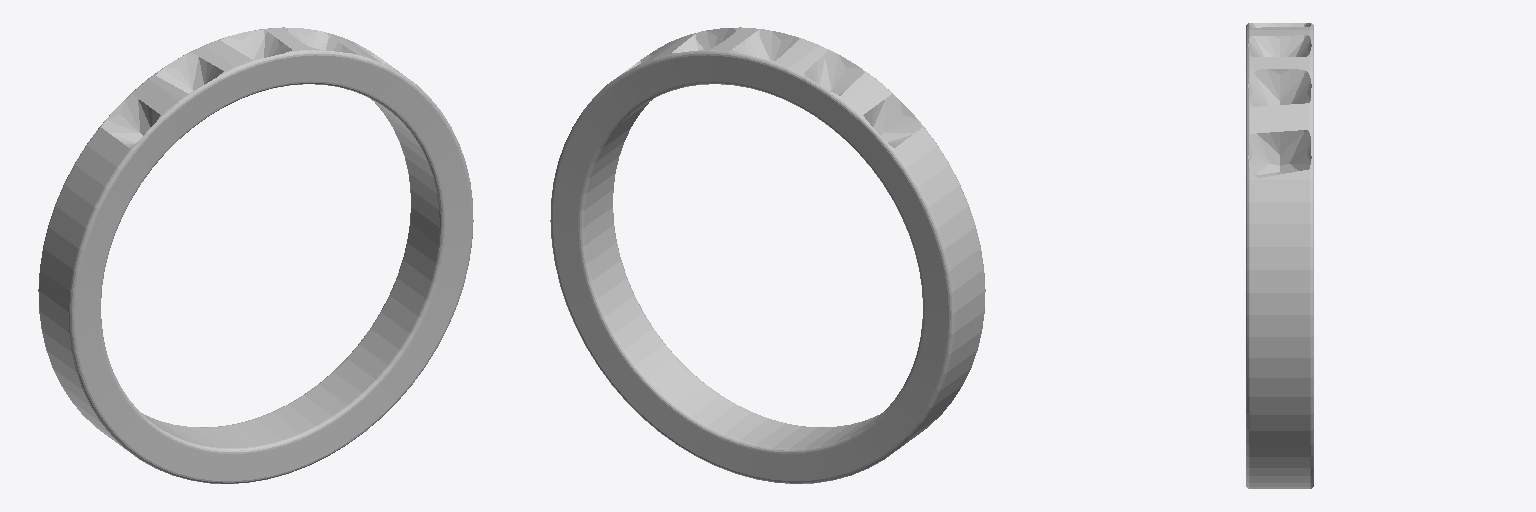
The model's file is Alliance_White_Gold_Ring.obj.
The picture shows the model from 3 angles: view 1: azimuth 30°, elevation 25°; view 2: azimuth 150°, elevation 25°; view 3: azimuth 270°, elevation 25°; orthographic projection.
Parts seen in each view (by area): view 1: Ring; view 2: Ring; view 3: Ring.
Boxes of the visible parts, <box> form: Ring: <box>38,27,473,483</box>; Ring: <box>550,27,985,483</box>; Ring: <box>1246,23,1313,488</box>.
Bounding box in the file's own units: 1.29 × 1.29 × 0.1891.